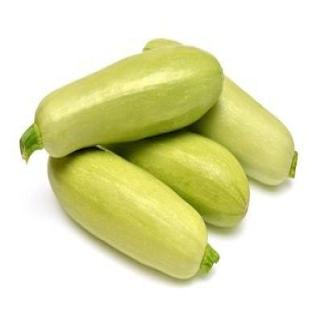Zucchini: (21, 46, 223, 159), (49, 149, 218, 278), (115, 132, 249, 226), (192, 77, 297, 184)
